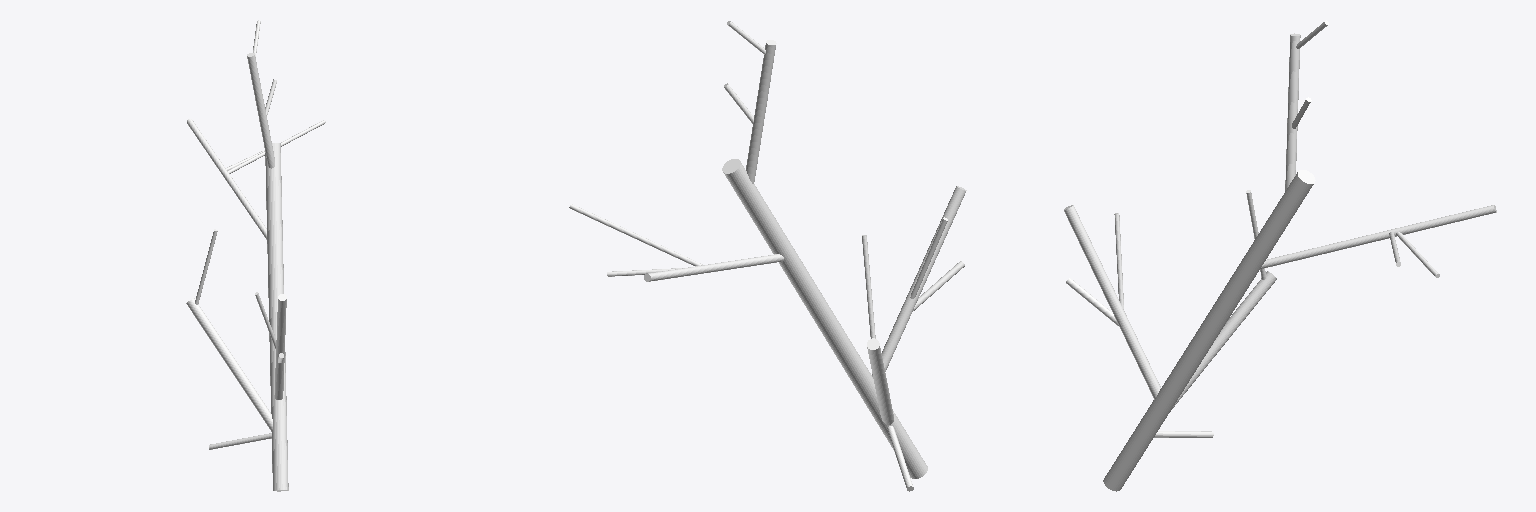
The robot description file, URDF, robot "tree_97.urdf":
<?xml version='1.0' encoding='UTF-8'?>
<robot name="tree_97.urdf">
  <link name="branch_0">
    <inertial>
      <origin xyz="0.0 0.0 0.0" rpy="0.0 -0.0 0.0"/>
      <mass value="1.0"/>
      <inertia ixx="1.0" ixy="0.0" ixz="0.0" iyy="1.0" iyz="0.0" izz="1.0"/>
    </inertial>
    <visual name="branch_0_visual">
      <geometry>
        <cylinder radius="0.15929315864754007" length="7.032128458210445"/>
      </geometry>
      <material name="branch_material"/>
      <origin xyz="0.7958837458386802 1.5382902398425784 3.059892132789676" rpy="-5.551115123125783e-17 0.5150652335462869 1.0933399775088548"/>
    </visual>
    <collision name="branch_0_collision">
      <geometry>
        <cylinder radius="0.15929315864754007" length="7.032128458210445"/>
      </geometry>
      <origin xyz="0.7958837458386802 1.5382902398425784 3.059892132789676" rpy="-5.551115123125783e-17 0.5150652335462869 1.0933399775088548"/>
    </collision>
  </link>
  <link name="branch_1">
    <inertial>
      <origin xyz="0.0 0.0 0.0" rpy="0.0 -0.0 0.0"/>
      <mass value="1.0"/>
      <inertia ixx="1.0" ixy="0.0" ixz="0.0" iyy="1.0" iyz="0.0" izz="1.0"/>
    </inertial>
    <visual name="branch_1_visual">
      <geometry>
        <cylinder radius="0.06521507874470715" length="4.082055675446581"/>
      </geometry>
      <material name="branch_material"/>
      <origin xyz="0.0 0.0 0.0" rpy="0.0 -0.0 0.0"/>
    </visual>
    <collision name="branch_1_collision">
      <geometry>
        <cylinder radius="0.06521507874470715" length="4.082055675446581"/>
      </geometry>
      <origin xyz="0.0 0.0 0.0" rpy="0.0 -0.0 0.0"/>
    </collision>
  </link>
  <link name="branch_2">
    <inertial>
      <origin xyz="0.0 0.0 0.0" rpy="0.0 -0.0 0.0"/>
      <mass value="1.0"/>
      <inertia ixx="1.0" ixy="0.0" ixz="0.0" iyy="1.0" iyz="0.0" izz="1.0"/>
    </inertial>
    <visual name="branch_2_visual">
      <geometry>
        <cylinder radius="0.04" length="1.4984719040677452"/>
      </geometry>
      <material name="branch_material"/>
      <origin xyz="0.0 0.0 0.0" rpy="0.0 -0.0 0.0"/>
    </visual>
    <collision name="branch_2_collision">
      <geometry>
        <cylinder radius="0.04" length="1.4984719040677452"/>
      </geometry>
      <origin xyz="0.0 0.0 0.0" rpy="0.0 -0.0 0.0"/>
    </collision>
  </link>
  <link name="branch_3">
    <inertial>
      <origin xyz="0.0 0.0 0.0" rpy="0.0 -0.0 0.0"/>
      <mass value="1.0"/>
      <inertia ixx="1.0" ixy="0.0" ixz="0.0" iyy="1.0" iyz="0.0" izz="1.0"/>
    </inertial>
    <visual name="branch_3_visual">
      <geometry>
        <cylinder radius="0.04" length="2.4469674733296616"/>
      </geometry>
      <material name="branch_material"/>
      <origin xyz="0.0 0.0 0.0" rpy="0.0 -0.0 0.0"/>
    </visual>
    <collision name="branch_3_collision">
      <geometry>
        <cylinder radius="0.04" length="2.4469674733296616"/>
      </geometry>
      <origin xyz="0.0 0.0 0.0" rpy="0.0 -0.0 0.0"/>
    </collision>
  </link>
  <link name="branch_4">
    <inertial>
      <origin xyz="0.0 0.0 0.0" rpy="0.0 -0.0 0.0"/>
      <mass value="1.0"/>
      <inertia ixx="1.0" ixy="0.0" ixz="0.0" iyy="1.0" iyz="0.0" izz="1.0"/>
    </inertial>
    <visual name="branch_4_visual">
      <geometry>
        <cylinder radius="0.10067514722196531" length="3.2614700926198448"/>
      </geometry>
      <material name="branch_material"/>
      <origin xyz="0.0 0.0 0.0" rpy="0.0 -0.0 0.0"/>
    </visual>
    <collision name="branch_4_collision">
      <geometry>
        <cylinder radius="0.10067514722196531" length="3.2614700926198448"/>
      </geometry>
      <origin xyz="0.0 0.0 0.0" rpy="0.0 -0.0 0.0"/>
    </collision>
  </link>
  <link name="branch_5">
    <inertial>
      <origin xyz="0.0 0.0 0.0" rpy="0.0 -0.0 0.0"/>
      <mass value="1.0"/>
      <inertia ixx="1.0" ixy="0.0" ixz="0.0" iyy="1.0" iyz="0.0" izz="1.0"/>
    </inertial>
    <visual name="branch_5_visual">
      <geometry>
        <cylinder radius="0.05463700348586315" length="1.5407596569109805"/>
      </geometry>
      <material name="branch_material"/>
      <origin xyz="0.0 0.0 0.0" rpy="0.0 -0.0 0.0"/>
    </visual>
    <collision name="branch_5_collision">
      <geometry>
        <cylinder radius="0.05463700348586315" length="1.5407596569109805"/>
      </geometry>
      <origin xyz="0.0 0.0 0.0" rpy="0.0 -0.0 0.0"/>
    </collision>
  </link>
  <link name="branch_6">
    <inertial>
      <origin xyz="0.0 0.0 0.0" rpy="0.0 -0.0 0.0"/>
      <mass value="1.0"/>
      <inertia ixx="1.0" ixy="0.0" ixz="0.0" iyy="1.0" iyz="0.0" izz="1.0"/>
    </inertial>
    <visual name="branch_6_visual">
      <geometry>
        <cylinder radius="0.04" length="1.8180772436997412"/>
      </geometry>
      <material name="branch_material"/>
      <origin xyz="0.0 0.0 0.0" rpy="0.0 -0.0 0.0"/>
    </visual>
    <collision name="branch_6_collision">
      <geometry>
        <cylinder radius="0.04" length="1.8180772436997412"/>
      </geometry>
      <origin xyz="0.0 0.0 0.0" rpy="0.0 -0.0 0.0"/>
    </collision>
  </link>
  <link name="branch_7">
    <inertial>
      <origin xyz="0.0 0.0 0.0" rpy="0.0 -0.0 0.0"/>
      <mass value="1.0"/>
      <inertia ixx="1.0" ixy="0.0" ixz="0.0" iyy="1.0" iyz="0.0" izz="1.0"/>
    </inertial>
    <visual name="branch_7_visual">
      <geometry>
        <cylinder radius="0.08255298160052528" length="2.764074378058056"/>
      </geometry>
      <material name="branch_material"/>
      <origin xyz="0.0 0.0 0.0" rpy="0.0 -0.0 0.0"/>
    </visual>
    <collision name="branch_7_collision">
      <geometry>
        <cylinder radius="0.08255298160052528" length="2.764074378058056"/>
      </geometry>
      <origin xyz="0.0 0.0 0.0" rpy="0.0 -0.0 0.0"/>
    </collision>
  </link>
  <link name="branch_8">
    <inertial>
      <origin xyz="0.0 0.0 0.0" rpy="0.0 -0.0 0.0"/>
      <mass value="1.0"/>
      <inertia ixx="1.0" ixy="0.0" ixz="0.0" iyy="1.0" iyz="0.0" izz="1.0"/>
    </inertial>
    <visual name="branch_8_visual">
      <geometry>
        <cylinder radius="0.043853856726730964" length="0.8713394777511284"/>
      </geometry>
      <material name="branch_material"/>
      <origin xyz="0.0 0.0 0.0" rpy="0.0 -0.0 0.0"/>
    </visual>
    <collision name="branch_8_collision">
      <geometry>
        <cylinder radius="0.043853856726730964" length="0.8713394777511284"/>
      </geometry>
      <origin xyz="0.0 0.0 0.0" rpy="0.0 -0.0 0.0"/>
    </collision>
  </link>
  <link name="branch_9">
    <inertial>
      <origin xyz="0.0 0.0 0.0" rpy="0.0 -0.0 0.0"/>
      <mass value="1.0"/>
      <inertia ixx="1.0" ixy="0.0" ixz="0.0" iyy="1.0" iyz="0.0" izz="1.0"/>
    </inertial>
    <visual name="branch_9_visual">
      <geometry>
        <cylinder radius="0.04" length="0.9467213427917036"/>
      </geometry>
      <material name="branch_material"/>
      <origin xyz="0.0 0.0 0.0" rpy="0.0 -0.0 0.0"/>
    </visual>
    <collision name="branch_9_collision">
      <geometry>
        <cylinder radius="0.04" length="0.9467213427917036"/>
      </geometry>
      <origin xyz="0.0 0.0 0.0" rpy="0.0 -0.0 0.0"/>
    </collision>
  </link>
  <link name="branch_10">
    <inertial>
      <origin xyz="0.0 0.0 0.0" rpy="0.0 -0.0 0.0"/>
      <mass value="1.0"/>
      <inertia ixx="1.0" ixy="0.0" ixz="0.0" iyy="1.0" iyz="0.0" izz="1.0"/>
    </inertial>
    <visual name="branch_10_visual">
      <geometry>
        <cylinder radius="0.08933208996579887" length="3.514099401416668"/>
      </geometry>
      <material name="branch_material"/>
      <origin xyz="0.0 0.0 0.0" rpy="0.0 -0.0 0.0"/>
    </visual>
    <collision name="branch_10_collision">
      <geometry>
        <cylinder radius="0.08933208996579887" length="3.514099401416668"/>
      </geometry>
      <origin xyz="0.0 0.0 0.0" rpy="0.0 -0.0 0.0"/>
    </collision>
  </link>
  <link name="branch_11">
    <inertial>
      <origin xyz="0.0 0.0 0.0" rpy="0.0 -0.0 0.0"/>
      <mass value="1.0"/>
      <inertia ixx="1.0" ixy="0.0" ixz="0.0" iyy="1.0" iyz="0.0" izz="1.0"/>
    </inertial>
    <visual name="branch_11_visual">
      <geometry>
        <cylinder radius="0.05499491829695203" length="1.2216104583868665"/>
      </geometry>
      <material name="branch_material"/>
      <origin xyz="0.0 0.0 0.0" rpy="0.0 -0.0 0.0"/>
    </visual>
    <collision name="branch_11_collision">
      <geometry>
        <cylinder radius="0.05499491829695203" length="1.2216104583868665"/>
      </geometry>
      <origin xyz="0.0 0.0 0.0" rpy="0.0 -0.0 0.0"/>
    </collision>
  </link>
  <link name="branch_12">
    <inertial>
      <origin xyz="0.0 0.0 0.0" rpy="0.0 -0.0 0.0"/>
      <mass value="1.0"/>
      <inertia ixx="1.0" ixy="0.0" ixz="0.0" iyy="1.0" iyz="0.0" izz="1.0"/>
    </inertial>
    <visual name="branch_12_visual">
      <geometry>
        <cylinder radius="0.04" length="1.69389222108971"/>
      </geometry>
      <material name="branch_material"/>
      <origin xyz="0.0 0.0 0.0" rpy="0.0 -0.0 0.0"/>
    </visual>
    <collision name="branch_12_collision">
      <geometry>
        <cylinder radius="0.04" length="1.69389222108971"/>
      </geometry>
      <origin xyz="0.0 0.0 0.0" rpy="0.0 -0.0 0.0"/>
    </collision>
  </link>
  <joint name="joint_0_1" type="fixed">
    <parent link="branch_0"/>
    <child link="branch_1"/>
    <axis xyz="1. 0. 0."/>
    <origin xyz="1.2477026044351291 4.118162589345823 4.884526784005714" rpy="0.7385813608628394 1.1776278143053018 2.2837503265111674"/>
  </joint>
  <joint name="joint_0_4" type="fixed">
    <parent link="branch_0"/>
    <child link="branch_4"/>
    <axis xyz="1. 0. 0."/>
    <origin xyz="-0.19428336611588007 1.517990716694895 2.17625318085391" rpy="0.5941993557558447 0.4958873981111441 2.9440136060136406"/>
  </joint>
  <joint name="joint_0_7" type="fixed">
    <parent link="branch_0"/>
    <child link="branch_7"/>
    <axis xyz="1. 0. 0."/>
    <origin xyz="1.2168419935757677 2.8569050635832576 6.956966280506668" rpy="0.15004710839051782 0.09336072716162164 -2.303302948393418"/>
  </joint>
  <joint name="joint_0_10" type="fixed">
    <parent link="branch_0"/>
    <child link="branch_10"/>
    <axis xyz="1. 0. 0."/>
    <origin xyz="0.024731430432120397 0.05086413531143914 3.1314680797278904" rpy="0.0005292709291078484 0.500745651073216 -2.048818843411179"/>
  </joint>
  <joint name="joint_1_2" type="fixed">
    <parent link="branch_0"/>
    <child link="branch_2"/>
    <axis xyz="1. 0. 0."/>
    <origin xyz="1.9469034683018875 4.833877581507443 4.932310186333209" rpy="-1.6697440921902442 0.3689925370607605 -1.161666583660024"/>
  </joint>
  <joint name="joint_1_3" type="fixed">
    <parent link="branch_0"/>
    <child link="branch_3"/>
    <axis xyz="1. 0. 0."/>
    <origin xyz="2.4561782771244864 4.479837832349581 5.260479566216956" rpy="-1.3277601477035912 0.24980851256659625 -1.4629898087613913"/>
  </joint>
  <joint name="joint_4_5" type="fixed">
    <parent link="branch_0"/>
    <child link="branch_5"/>
    <axis xyz="1. 0. 0."/>
    <origin xyz="-0.24969712939173241 1.0350872810138716 0.7550750865810751" rpy="2.495114556766309 1.167105530063985 -1.4993061713010902"/>
  </joint>
  <joint name="joint_4_6" type="fixed">
    <parent link="branch_0"/>
    <child link="branch_6"/>
    <axis xyz="1. 0. 0."/>
    <origin xyz="-0.4293944438285355 2.2900042950507764 4.112089950598298" rpy="-0.09093129964719171 0.21541783778330295 -1.0793780417283125"/>
  </joint>
  <joint name="joint_7_8" type="fixed">
    <parent link="branch_0"/>
    <child link="branch_8"/>
    <axis xyz="1. 0. 0."/>
    <origin xyz="1.4596352595323934 2.983024536976374 7.150411433815605" rpy="-0.12013411055118393 0.6045059356407558 0.3404675100699619"/>
  </joint>
  <joint name="joint_7_9" type="fixed">
    <parent link="branch_0"/>
    <child link="branch_9"/>
    <axis xyz="1. 0. 0."/>
    <origin xyz="1.2366643893891933 3.14804919352059 8.417285625052012" rpy="-0.19429003247374138 0.7678114115612308 0.5889362889091867"/>
  </joint>
  <joint name="joint_10_11" type="fixed">
    <parent link="branch_0"/>
    <child link="branch_11"/>
    <axis xyz="1. 0. 0."/>
    <origin xyz="-0.1362757415031311 -0.24156006776432837 3.0817441689763303" rpy="-0.024397585382799215 1.045615303221784 -2.093384542805862"/>
  </joint>
  <joint name="joint_10_12" type="fixed">
    <parent link="branch_0"/>
    <child link="branch_12"/>
    <axis xyz="1. 0. 0."/>
    <origin xyz="-0.22236318400871743 0.11375509539939815 3.7030759321038564" rpy="-0.36536944982048514 0.050840854888386425 1.844792162280872"/>
  </joint>
  <material name="branch_material">
    <color rgba="1. 1. 1. 1."/>
  </material>
</robot>

--- Render facts (derived) ---
The picture shows the robot from 3 angles, left to right: view 1: azimuth 30°, elevation 25°; view 2: azimuth 150°, elevation 25°; view 3: azimuth 270°, elevation 25°; orthographic projection.
Model tree_97.urdf with 13 links and 12 joints (12 fixed), rooted at branch_0, posed every joint at zero.
Links seen in each view (by area): view 1: branch_0, branch_4, branch_7, branch_1, branch_10; view 2: branch_0, branch_10, branch_7, branch_1, branch_4, branch_3, branch_6; view 3: branch_0, branch_10, branch_1, branch_4, branch_7.
Boxes of the visible links, x1,y1,x2,y2 form: branch_0: (265,143,288,491); branch_4: (186,298,272,431); branch_7: (247,53,274,168); branch_1: (187,119,266,239); branch_10: (275,294,286,399); branch_0: (722,159,927,478); branch_10: (872,186,966,376); branch_7: (746,40,776,183); branch_1: (644,254,783,281); branch_4: (867,338,893,424); branch_3: (569,204,702,265); branch_6: (862,235,875,338); branch_0: (1103,170,1315,491); branch_10: (1064,205,1160,399); branch_1: (1261,205,1496,268); branch_4: (1170,271,1276,411); branch_7: (1285,33,1300,190).
Bounding box of the posed robot: 4.45 × 6.87 × 8.86 m (x, y, z).
Geometry: primitives only (box / cylinder / sphere), no mesh files.